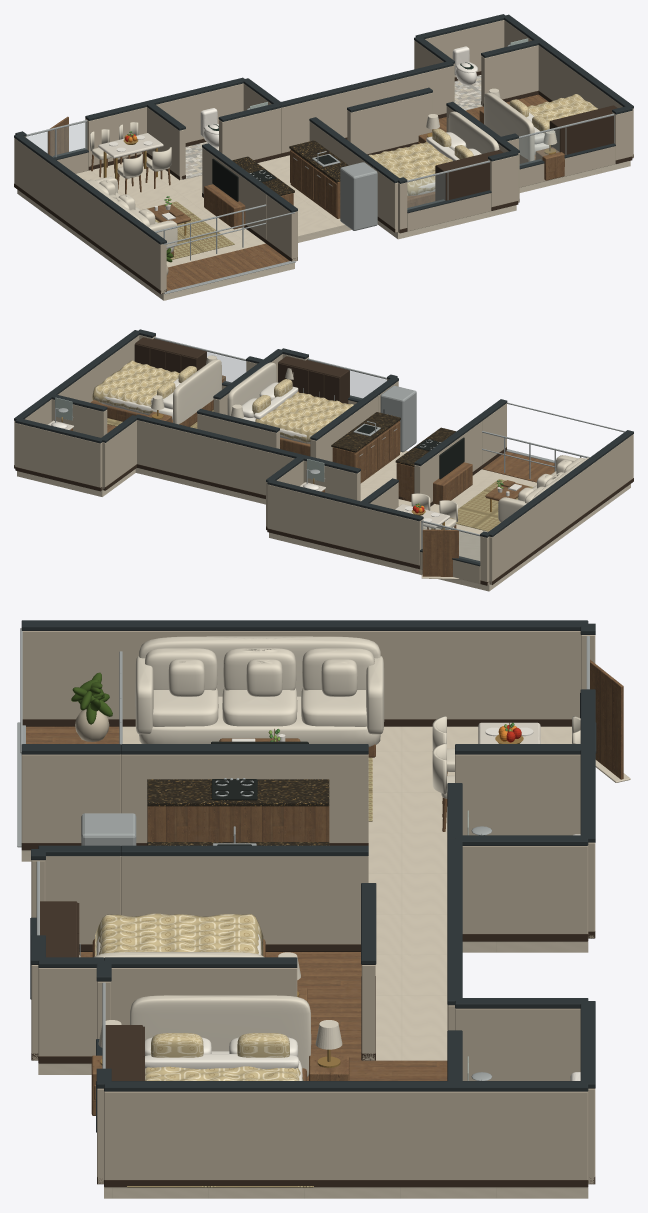
Rendered from Codename-Elements_Tower-1_Flat-04_2BHK.glb.
The picture shows the model from 3 angles, top to bottom: view 1: azimuth 30°, elevation 25°; view 2: azimuth 150°, elevation 25°; view 3: azimuth 270°, elevation 25°; orthographic projection. The views are drawn at different scales.
Parts seen in each view (by area): view 1: Apartment foundation, Ivory masonry.007, Ivory masonry.011, Ivory masonry.009, Ivory masonry.016, Ivory masonry.014, Ivory masonry.020, Ivory masonry.018, Brushed refrigerator, Dark fitted wardrobe, Soft jacquard duvet with folds.004, Dark fitted wardrobe.001 (+45 smaller); view 2: Ivory masonry.009, Ivory masonry.007, Ivory masonry.011, Apartment foundation, Ivory masonry.013, Soft jacquard duvet with folds.004, Soft jacquard duvet with folds.003, Ivory masonry.014, Padded headboard.003, Open walnut door leaf, Ivory masonry.022, Ivory masonry.012 (+47 smaller); view 3: Ivory masonry.014, Apartment foundation, Ivory masonry.007, Ivory masonry.017, Ivory masonry.010, Ivory masonry.022, Ivory masonry.021, Ivory masonry.012, Ivory masonry.006, Padded headboard.003, Kitchen cabinetry.001, Charcoal wall cut.007 (+52 smaller).
Boxes of the visible parts, bbox=[...] form: Apartment foundation: bbox=[17, 155, 630, 300]; Ivory masonry.007: bbox=[14, 138, 166, 293]; Ivory masonry.011: bbox=[281, 66, 453, 153]; Ivory masonry.009: bbox=[85, 83, 243, 166]; Ivory masonry.016: bbox=[347, 92, 432, 154]; Ivory masonry.014: bbox=[504, 20, 633, 157]; Ivory masonry.020: bbox=[219, 108, 280, 160]; Ivory masonry.018: bbox=[481, 45, 538, 106]; Brushed refrigerator: bbox=[340, 162, 377, 230]; Dark fitted wardrobe: bbox=[550, 105, 617, 155]; Soft jacquard duvet with folds.004: bbox=[368, 141, 452, 195]; Dark fitted wardrobe.001: bbox=[435, 150, 503, 200]; Ivory masonry.009: bbox=[267, 484, 423, 565]; Ivory masonry.007: bbox=[489, 434, 633, 584]; Ivory masonry.011: bbox=[137, 420, 294, 495]; Apartment foundation: bbox=[17, 451, 630, 591]; Ivory masonry.013: bbox=[15, 423, 102, 489]; Soft jacquard duvet with folds.004: bbox=[255, 392, 353, 442]; Soft jacquard duvet with folds.003: bbox=[92, 360, 179, 413]; Ivory masonry.014: bbox=[14, 335, 139, 467]; Padded headboard.003: bbox=[173, 359, 221, 424]; Open walnut door leaf: bbox=[422, 529, 458, 576]; Ivory masonry.022: bbox=[414, 421, 481, 502]; Ivory masonry.012: bbox=[102, 420, 136, 489]; Ivory masonry.014: bbox=[104, 1091, 588, 1179]; Apartment foundation: bbox=[21, 726, 588, 1198]; Ivory masonry.007: bbox=[22, 631, 581, 719]; Ivory masonry.017: bbox=[121, 856, 368, 944]; Ivory masonry.010: bbox=[462, 845, 588, 933]; Ivory masonry.022: bbox=[121, 754, 368, 842]; Ivory masonry.021: bbox=[455, 754, 580, 835]; Ivory masonry.012: bbox=[455, 1008, 580, 1080]; Ivory masonry.006: bbox=[21, 754, 120, 842]; Padded headboard.003: bbox=[130, 995, 311, 1077]; Kitchen cabinetry.001: bbox=[147, 806, 329, 841]; Charcoal wall cut.007: bbox=[21, 620, 588, 630].
Size of the model in its own units: 11.51 by 1.37 by 6.39.
Materials: 25 (6 with a texture image).
